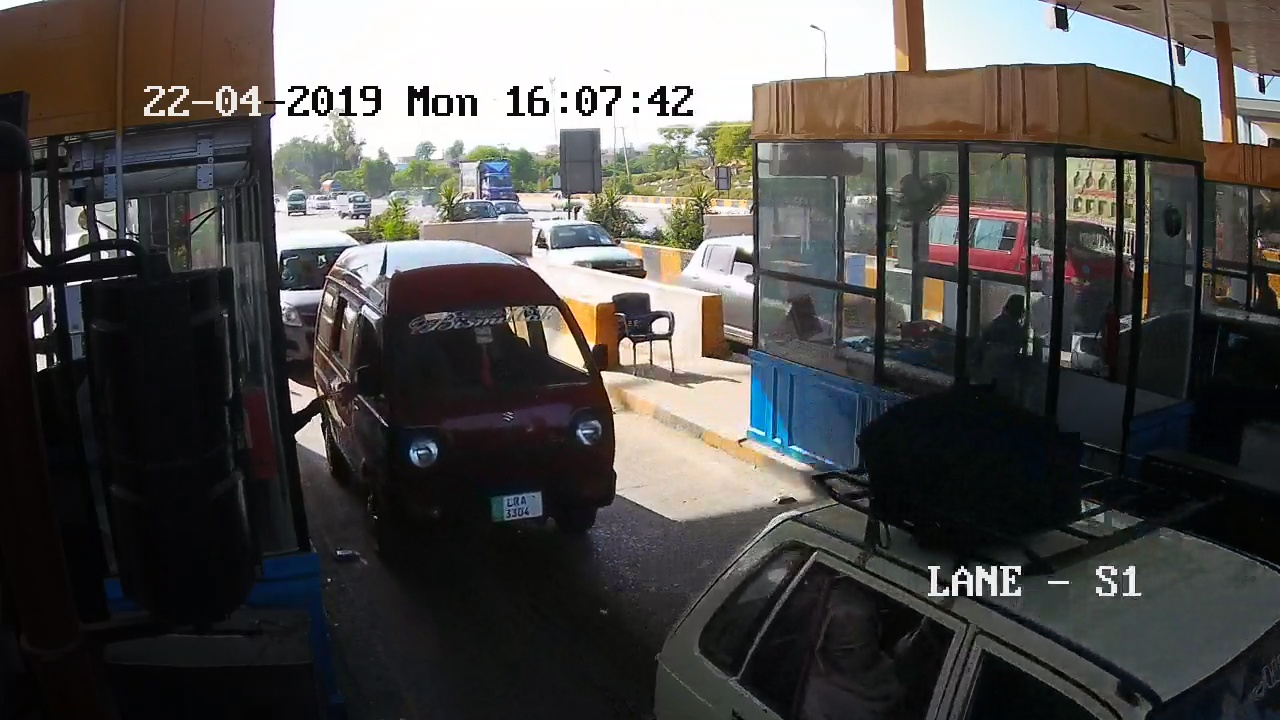Number Plate (Car): (490, 492, 545, 518)
